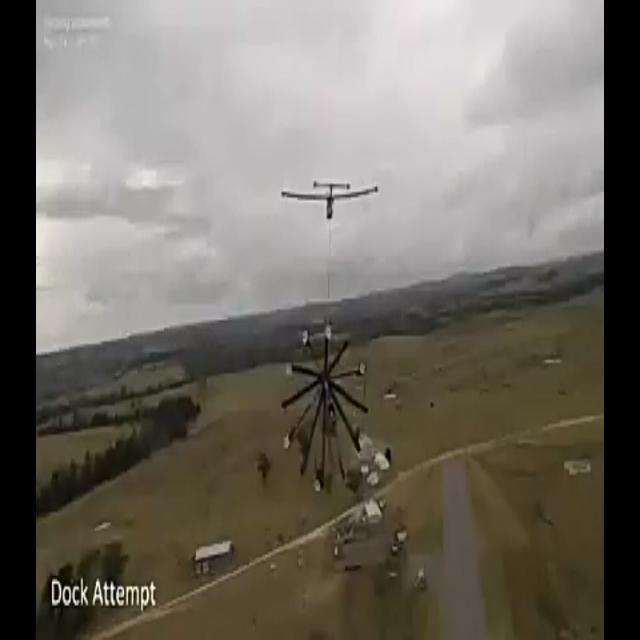iha: (305, 171, 341, 216)
